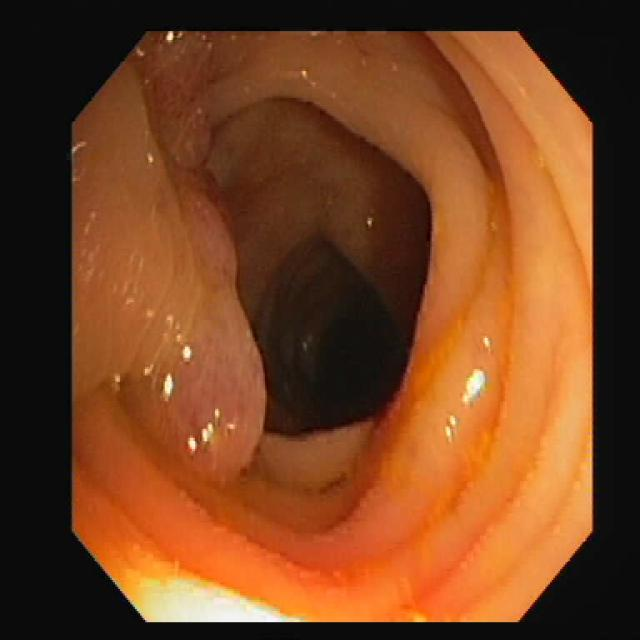tumor: (73, 62, 265, 511)
